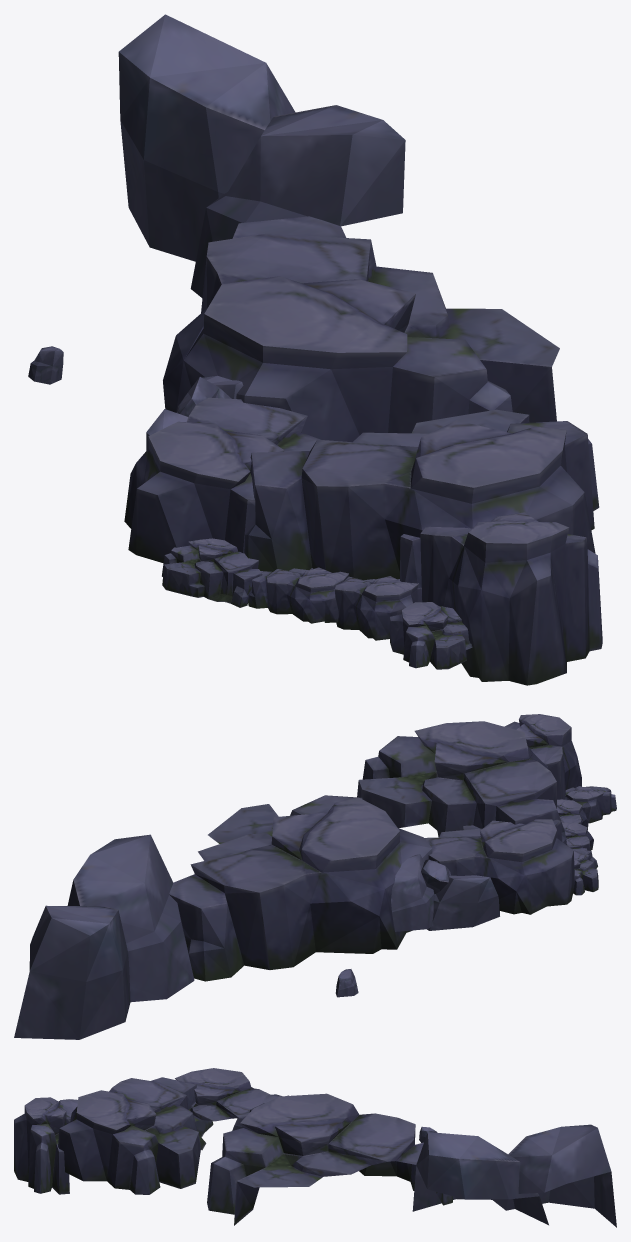
Rendered from Area09_4.fbx.
3 renders of one model, top to bottom at view 1: azimuth 30°, elevation 25°; view 2: azimuth 150°, elevation 25°; view 3: azimuth 270°, elevation 25°, orthographic. The views are drawn at different scales.
Parts seen in each view (by area): view 1: Area09_4; view 2: Area09_4; view 3: Area09_4.
Part boxes in pixels (x1,y1,x2,y2): Area09_4: [28, 14, 602, 685]; Area09_4: [14, 714, 616, 1039]; Area09_4: [14, 1068, 616, 1227].
Bounding box in the file's own units: 5335 × 1879 × 10780.
